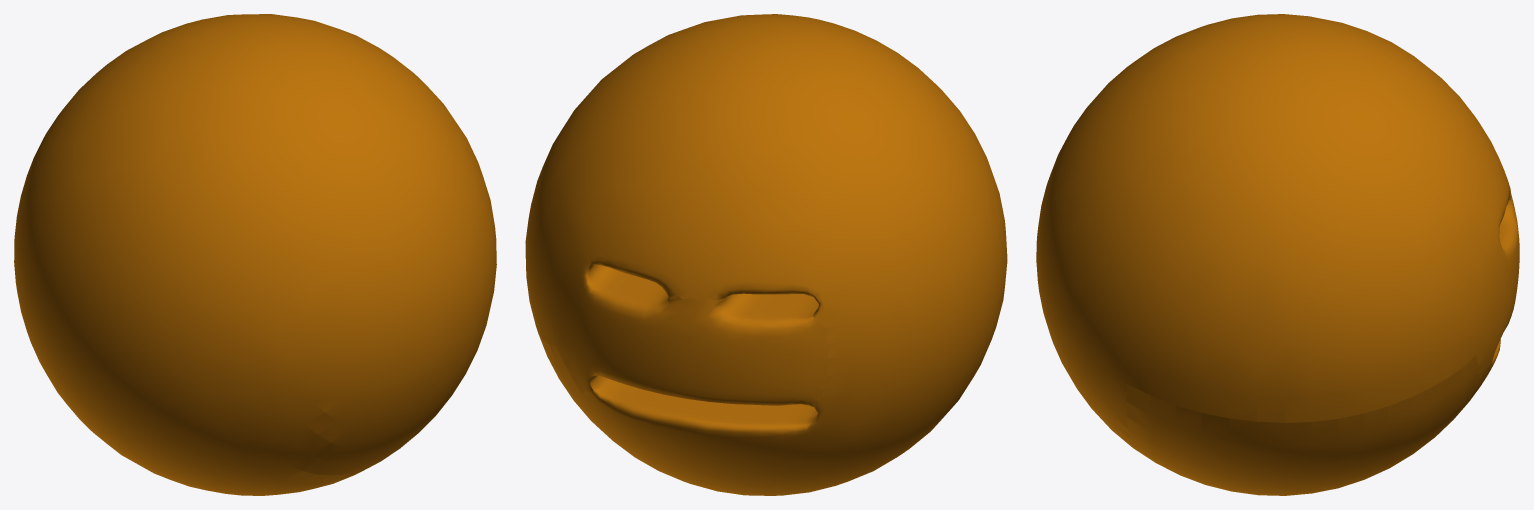
Rendered from expresionless 3DS.fbx.
3 renders of one model, left to right at view 1: azimuth 30°, elevation 25°; view 2: azimuth 150°, elevation 25°; view 3: azimuth 270°, elevation 25°, orthographic.
Parts seen in each view (by area): view 1: Group22640; view 2: Group22640; view 3: Group22640.
Part boxes in pixels (<box>): Group22640: <box>14,14,496,495</box>; Group22640: <box>525,14,1007,495</box>; Group22640: <box>1036,14,1519,495</box>.
Bounding box in the file's own units: 55.79 × 55.89 × 56.14.
